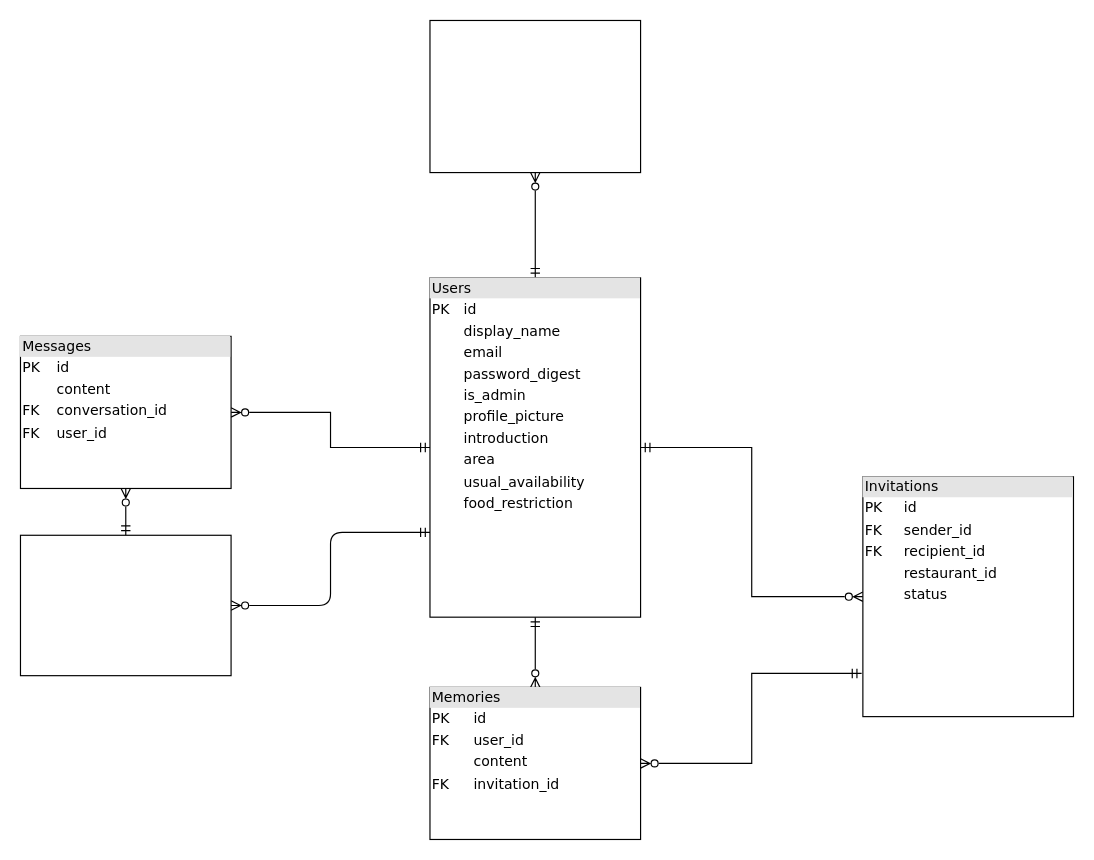
Some shapes in this 1094 by 860 pixel diagram are drawn without their labels. The shapes that lost their labels are listed below. From the top down, each one's centre as x and y in pixels, then its label:
At (535,96): "Wishlists PK id FK user_id restaurant_id".
At (125,605): "Conversations PK id FK sender_id FK recipient_id".
